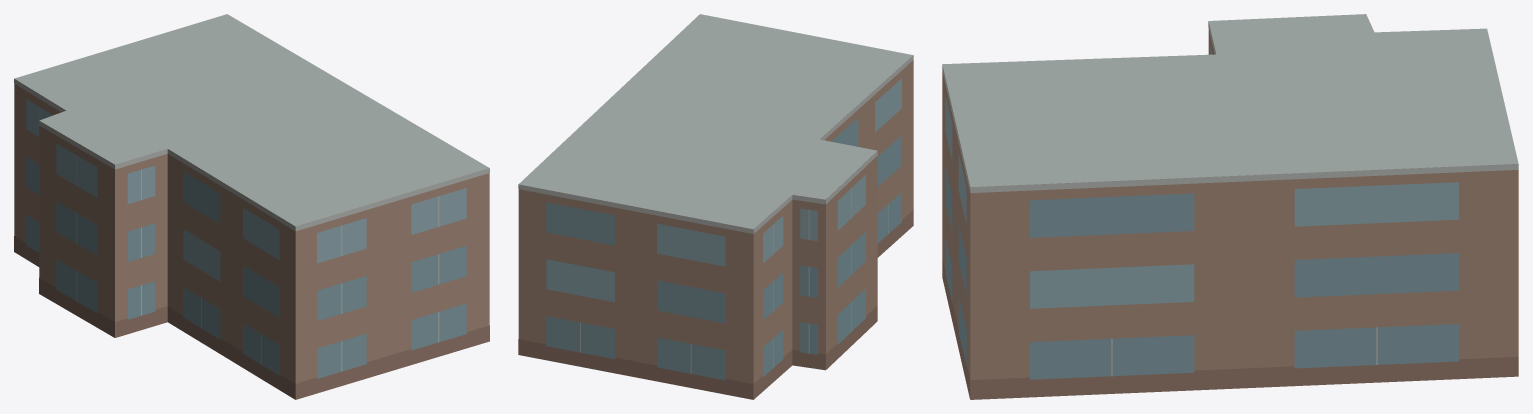
The model's file is survey-upis-32475695.glb.
The picture shows the model from 3 angles, left to right: view 1: azimuth 30°, elevation 25°; view 2: azimuth 150°, elevation 25°; view 3: azimuth 270°, elevation 25°; orthographic projection. The views are drawn at different scales.
Visible parts, largest first — view 1: survey-upis-32475695.tmp; view 2: survey-upis-32475695.tmp; view 3: survey-upis-32475695.tmp.
Boxes of the visible parts, bbox=[...] form: survey-upis-32475695.tmp: bbox=[14, 14, 489, 399]; survey-upis-32475695.tmp: bbox=[518, 14, 913, 399]; survey-upis-32475695.tmp: bbox=[942, 14, 1518, 399].
Bounding box in the file's own units: 15.2 × 8.7 × 21.38.
